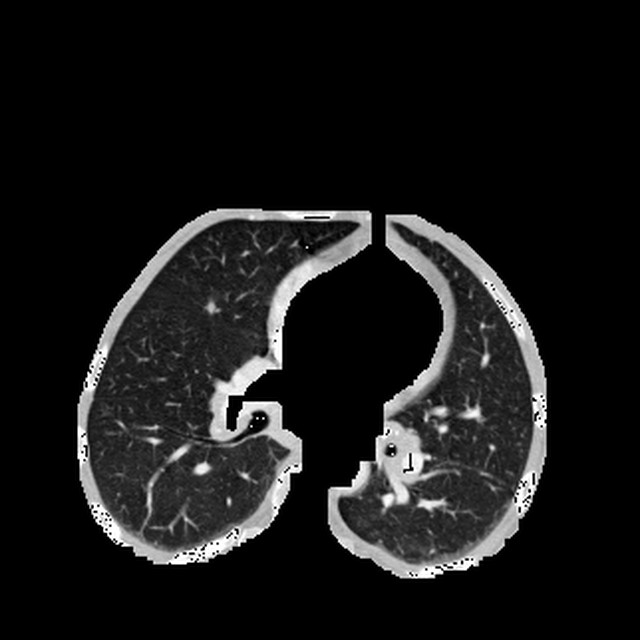PN: (207, 304, 215, 312)
